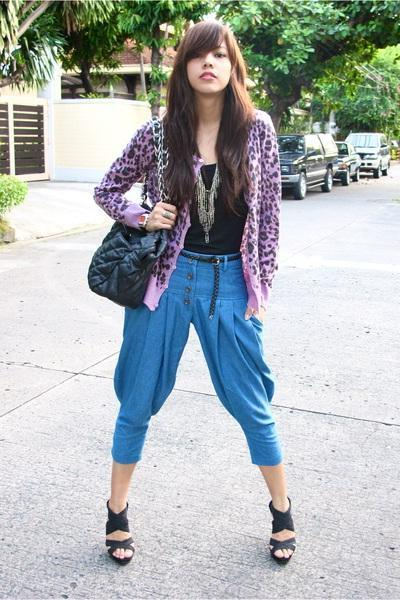long sleeve shirt: (90, 112, 283, 312)
trousers: (107, 250, 267, 465)
vest: (161, 151, 253, 259)
